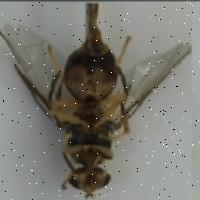Oriental-fruit-fly: (0, 2, 192, 200)
